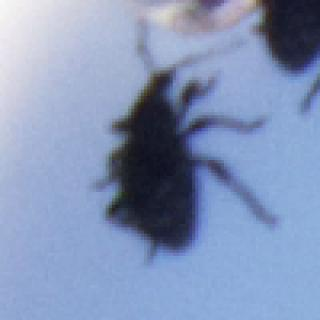bvw: (91, 19, 279, 265)
